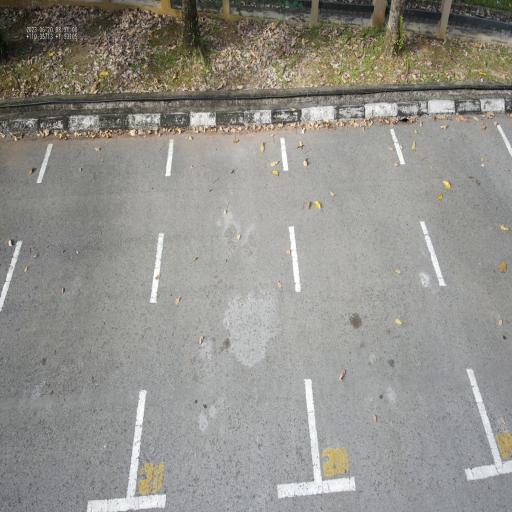Empty: (277, 118, 507, 498), (122, 121, 325, 512)
